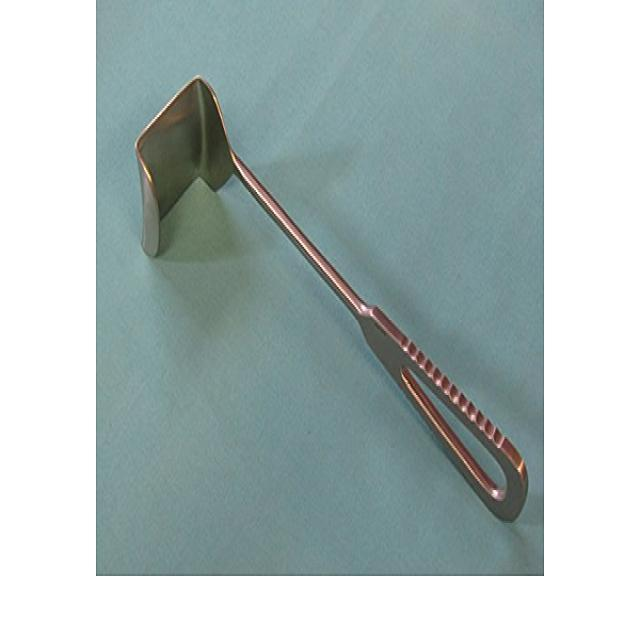Morris Retractor: (128, 65, 532, 538)
